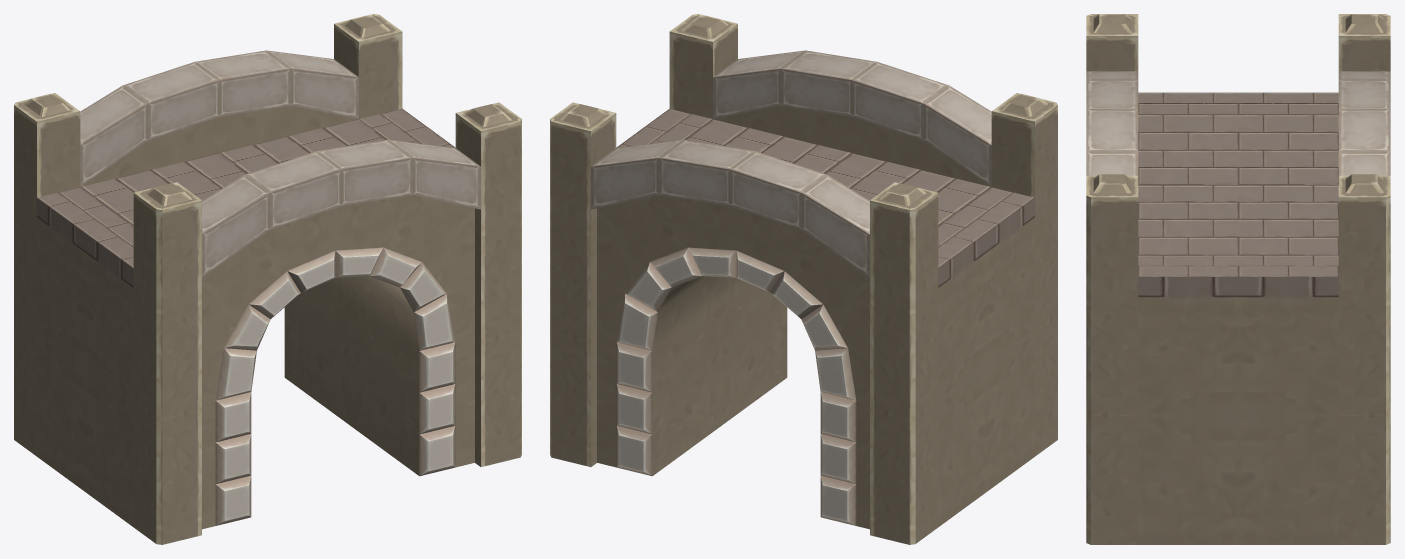
Rendered from bridge2_HD.fbx.
3 views of the same model, side by side, from view 1: azimuth 30°, elevation 25°; view 2: azimuth 150°, elevation 25°; view 3: azimuth 270°, elevation 25° (orthographic). The views are drawn at different scales.
Visible parts, largest first — view 1: Bridge2; view 2: Bridge2; view 3: Bridge2.
Boxes of the visible parts, bbox=[...] form: Bridge2: bbox=[14, 14, 521, 544]; Bridge2: bbox=[550, 14, 1057, 544]; Bridge2: bbox=[1086, 14, 1390, 544].
Bounding box in the file's own units: 3.05 × 2.73 × 2.13.
